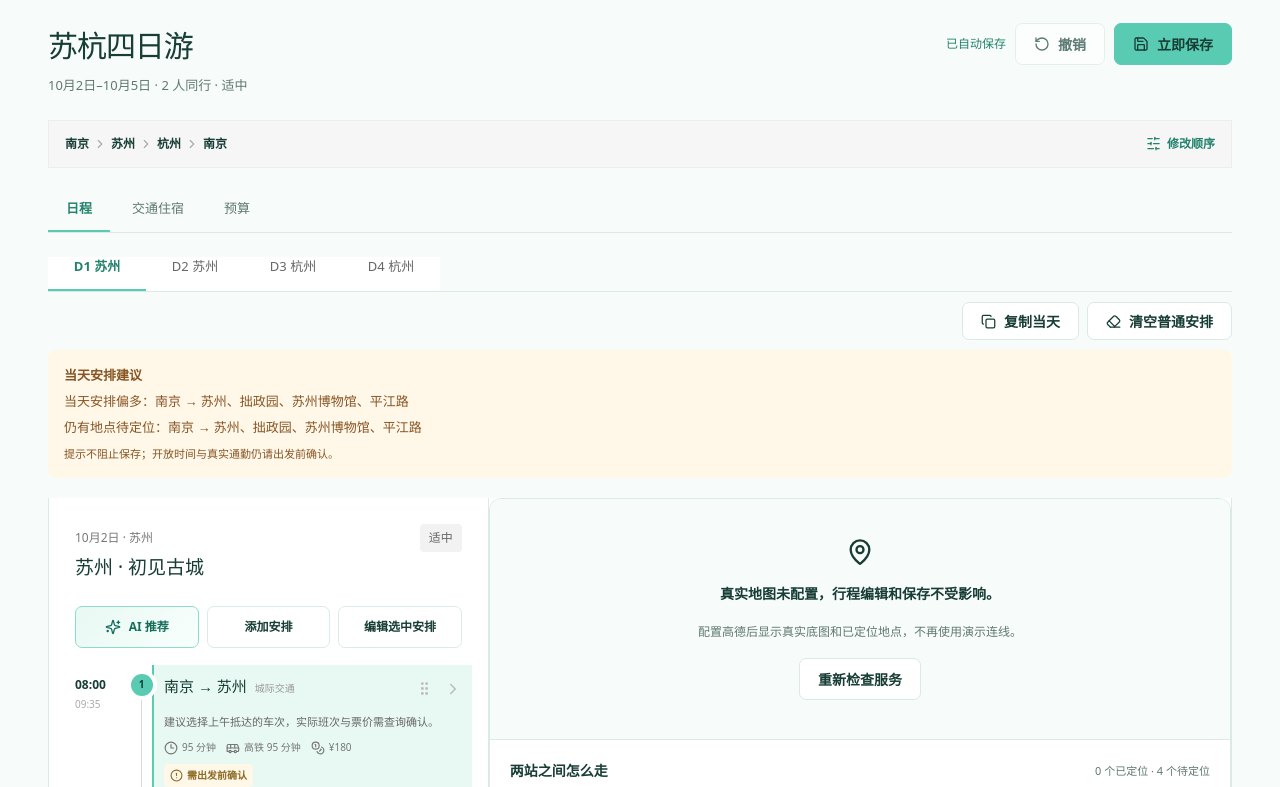
Scenario: AI 推荐经过确认后一次写入、自动保存且可以整步撤销
Click the button "AI 推荐". click: click(137, 627)
box: [75,606,199,648]
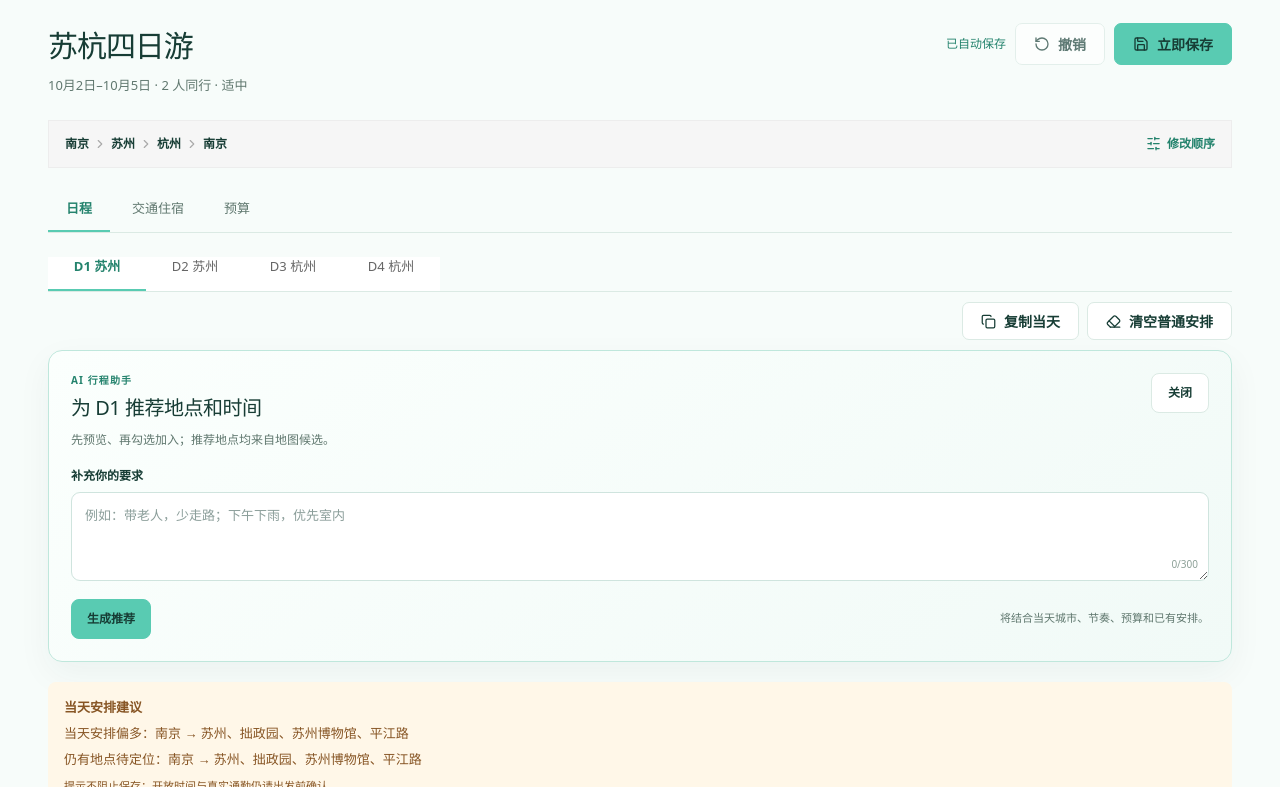
Click the button "生成推荐". click: click(111, 619)
box: [71,599,151,639]
(page scrolled)
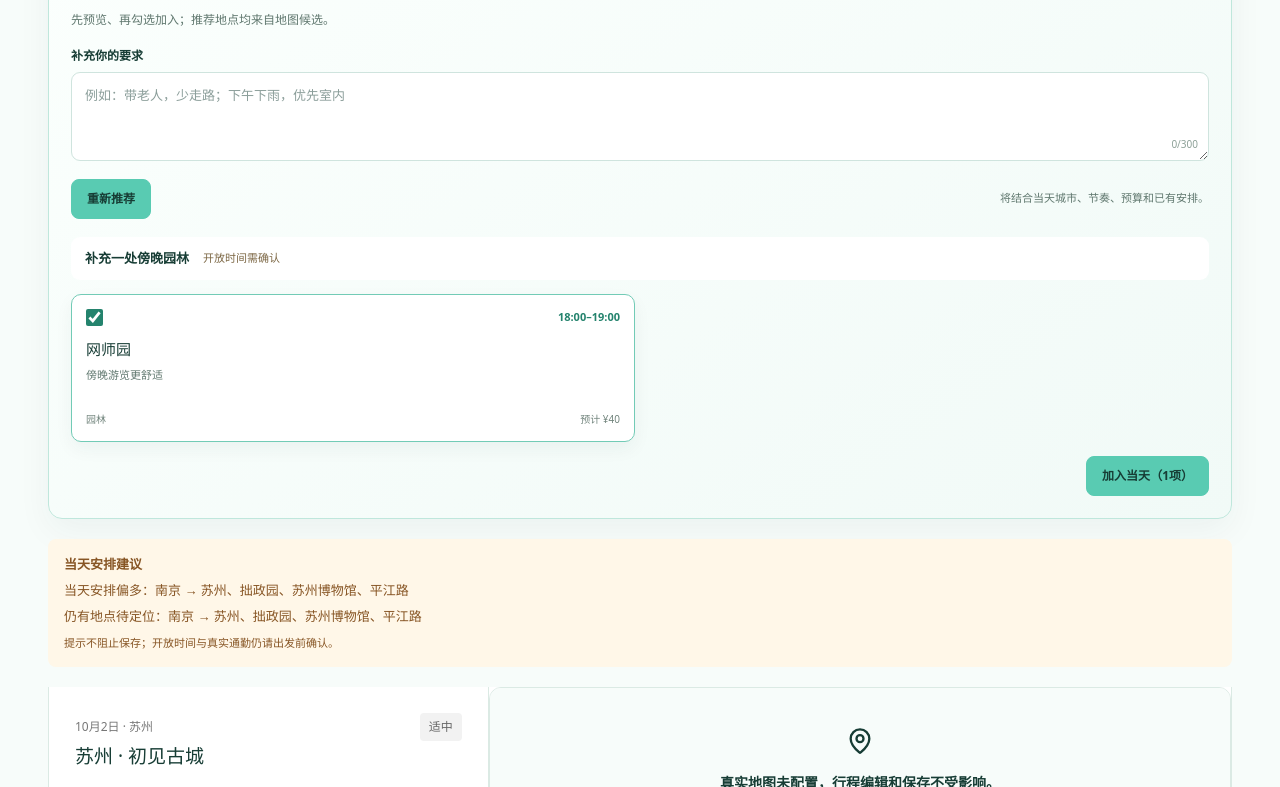
Check: the text "补充一处傍晚园林" is shown, box [85,249,189,268]
Click the button "加入当天（1项）". click: click(1148, 476)
box: [1086,456,1209,496]
(page scrolled)
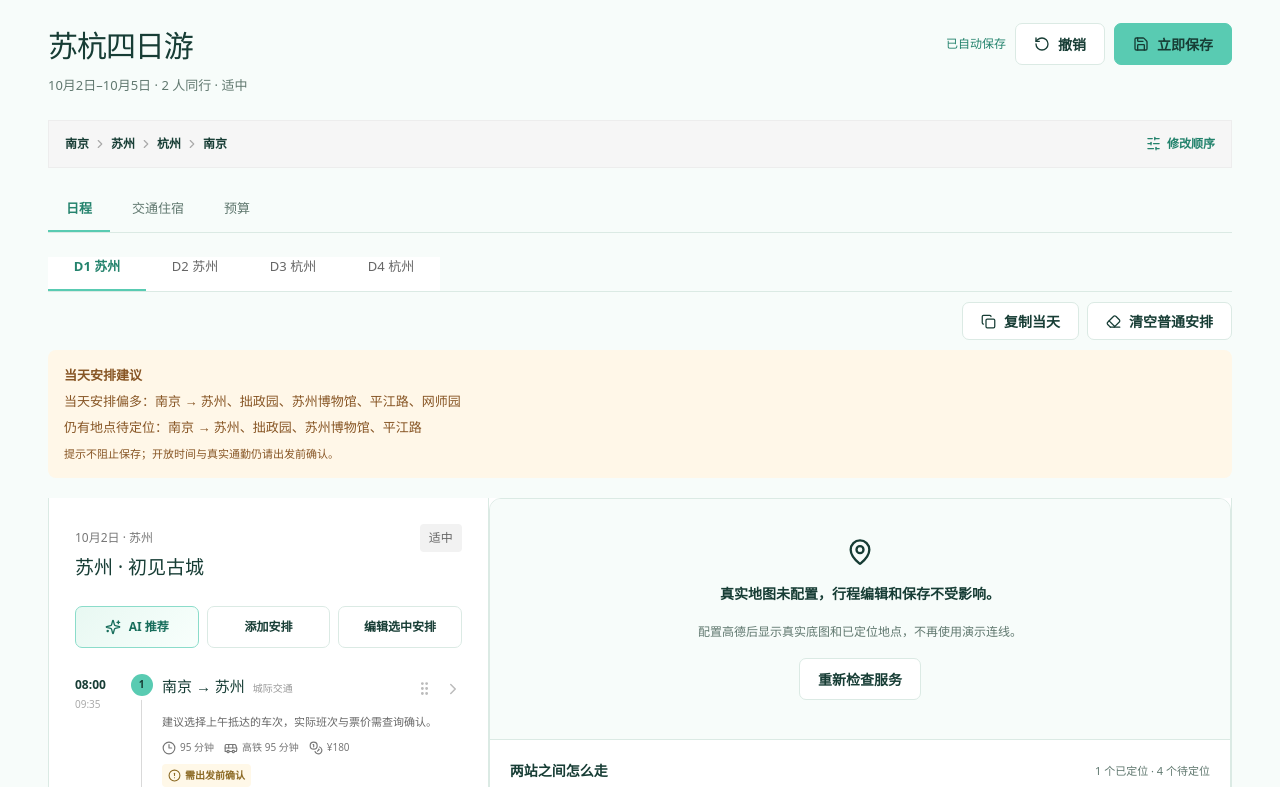
Click the button "撤销". click: click(1060, 44)
box: [1015,23,1105,65]
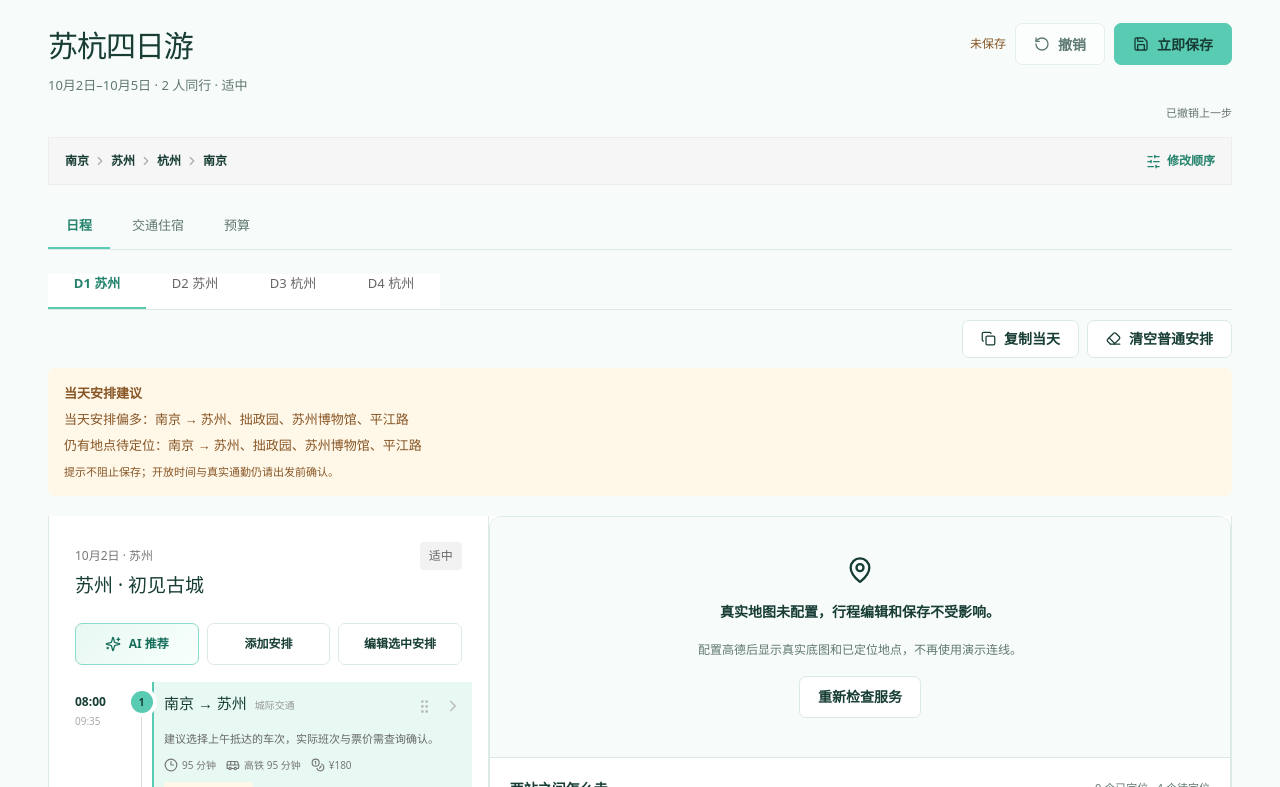
Check: the text "网师园" is gone
